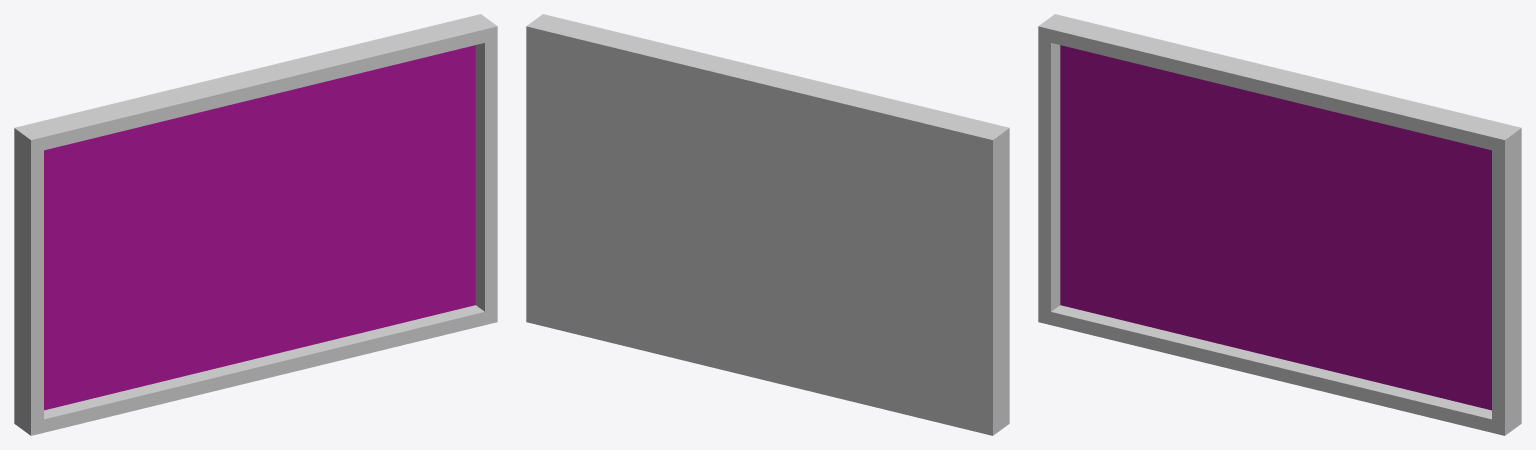
Rendered from Caucho.fbx.
3 renders of one model, left to right at view 1: azimuth 30°, elevation 25°; view 2: azimuth 150°, elevation 25°; view 3: azimuth 330°, elevation 25°, orthographic.
Parts seen in each view (by area): view 1: Caucho; view 2: Caucho; view 3: Caucho.
Boxes of the visible parts, x1,y1,x2,y2 form: Caucho: [14, 14, 497, 435]; Caucho: [526, 14, 1009, 435]; Caucho: [1038, 14, 1521, 435].
Size of the model in its own units: 483 by 293 by 30.24.
